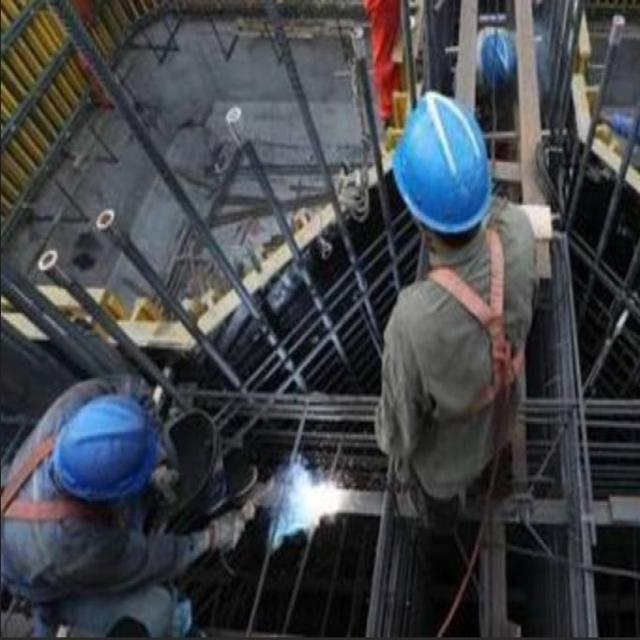Arnes_seguridad: (415, 221, 532, 424)
